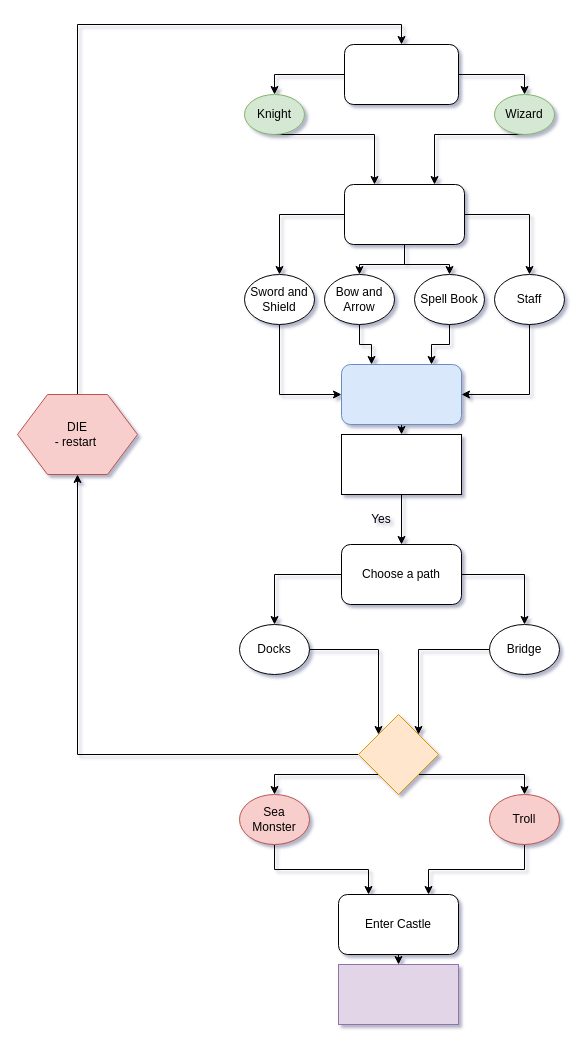
Image size: 588x1048. Some labels were removed from this diagram. Here are the shapes that lost their labels. From the top down, the centre of each, then its label:
At [401,74]: "Choose Character".
At [404,214]: "Choose Weapon".
At [401,394]: "King Approaches".
At [401,464]: "- Do you accept the quest".
At [398,754]: "FIGHT".
At [398,994]: "- Save Princess - ???".
